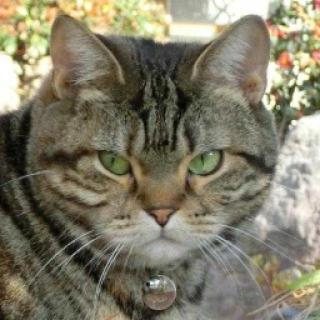cat: (33, 16, 285, 268)
nose: (140, 191, 186, 235)
